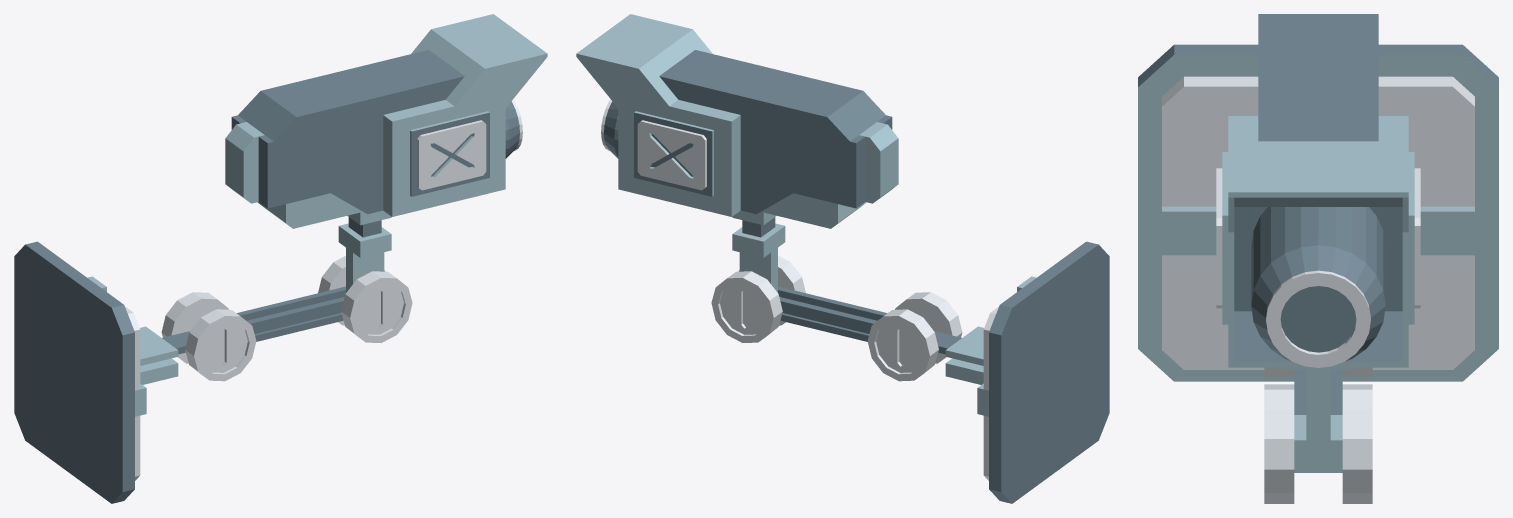
File: CCTV.fbx
The picture shows the model from 3 angles, left to right: view 1: azimuth 30°, elevation 25°; view 2: azimuth 150°, elevation 25°; view 3: azimuth 270°, elevation 25°; orthographic projection. The views are drawn at different scales.
Visible parts, largest first — view 1: CCTV; view 2: CCTV; view 3: CCTV.
Part boxes in pixels (x1=…): CCTV: x1=14, y1=14, x2=547, y2=503; CCTV: x1=576, y1=14, x2=1109, y2=503; CCTV: x1=1138, y1=14, x2=1498, y2=503.
Bounding box in the file's own units: 21.72 × 15.06 × 9.
